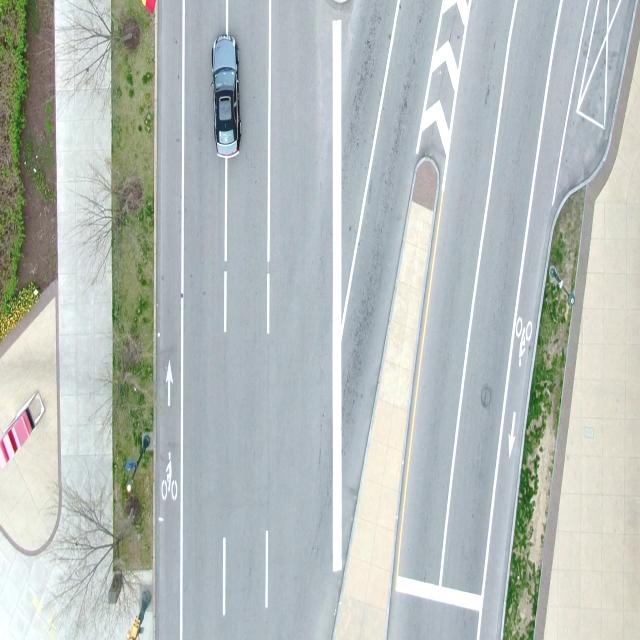Car: (208, 28, 243, 170)
